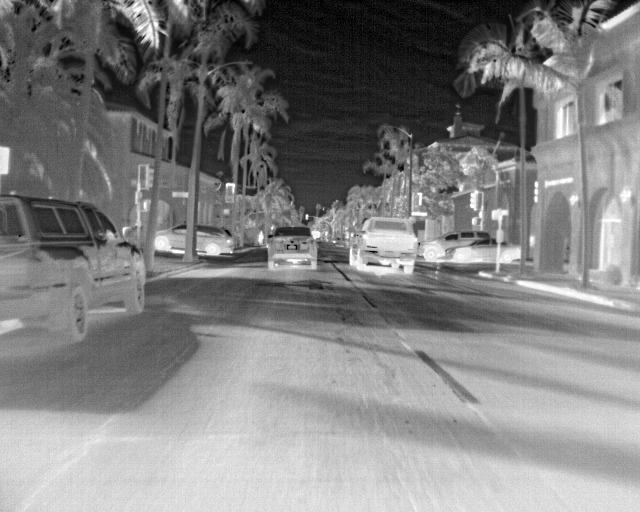car: (0, 191, 148, 342), (349, 214, 419, 273), (267, 224, 318, 270), (195, 224, 239, 256), (445, 241, 497, 263), (420, 229, 490, 242), (156, 222, 184, 253), (419, 243, 443, 260), (504, 241, 520, 262), (312, 230, 323, 238)
